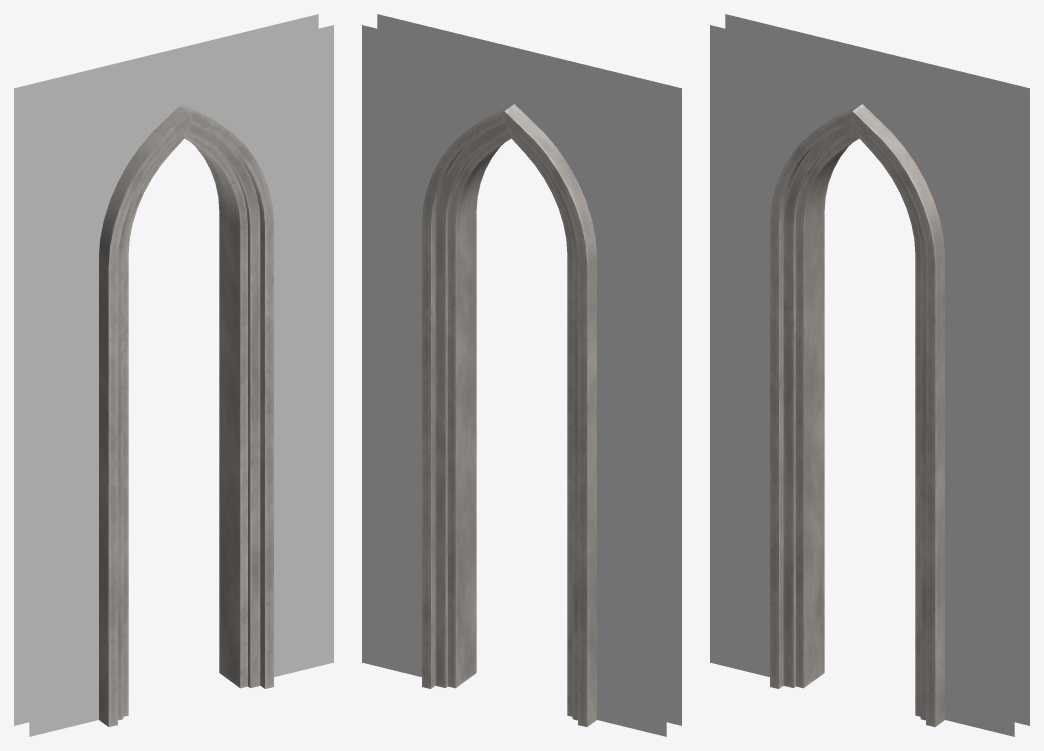
File: Wall_Door_G.fbx
3 views of the same model, side by side, from view 1: azimuth 30°, elevation 25°; view 2: azimuth 150°, elevation 25°; view 3: azimuth 330°, elevation 25° (orthographic).
Parts seen in each view (by area): view 1: Wall_Door_G; view 2: Wall_Door_G; view 3: Wall_Door_G.
Boxes of the visible parts, x1=… form: Wall_Door_G: x1=14, y1=14, x2=333, y2=736; Wall_Door_G: x1=362, y1=14, x2=681, y2=736; Wall_Door_G: x1=710, y1=14, x2=1029, y2=736.
Size of the model in its own units: 3 by 0.5967 by 6.
